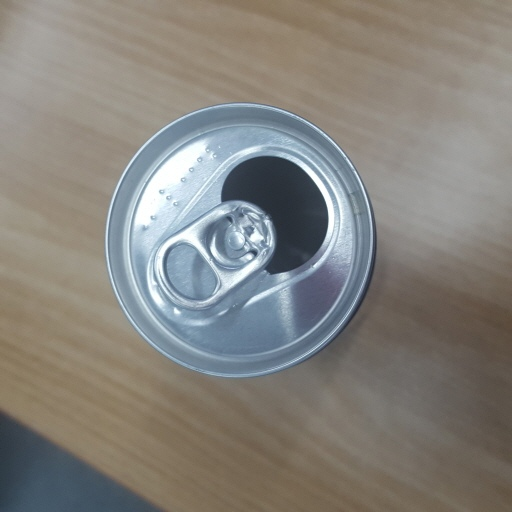Metal_0: (103, 102, 378, 382)
